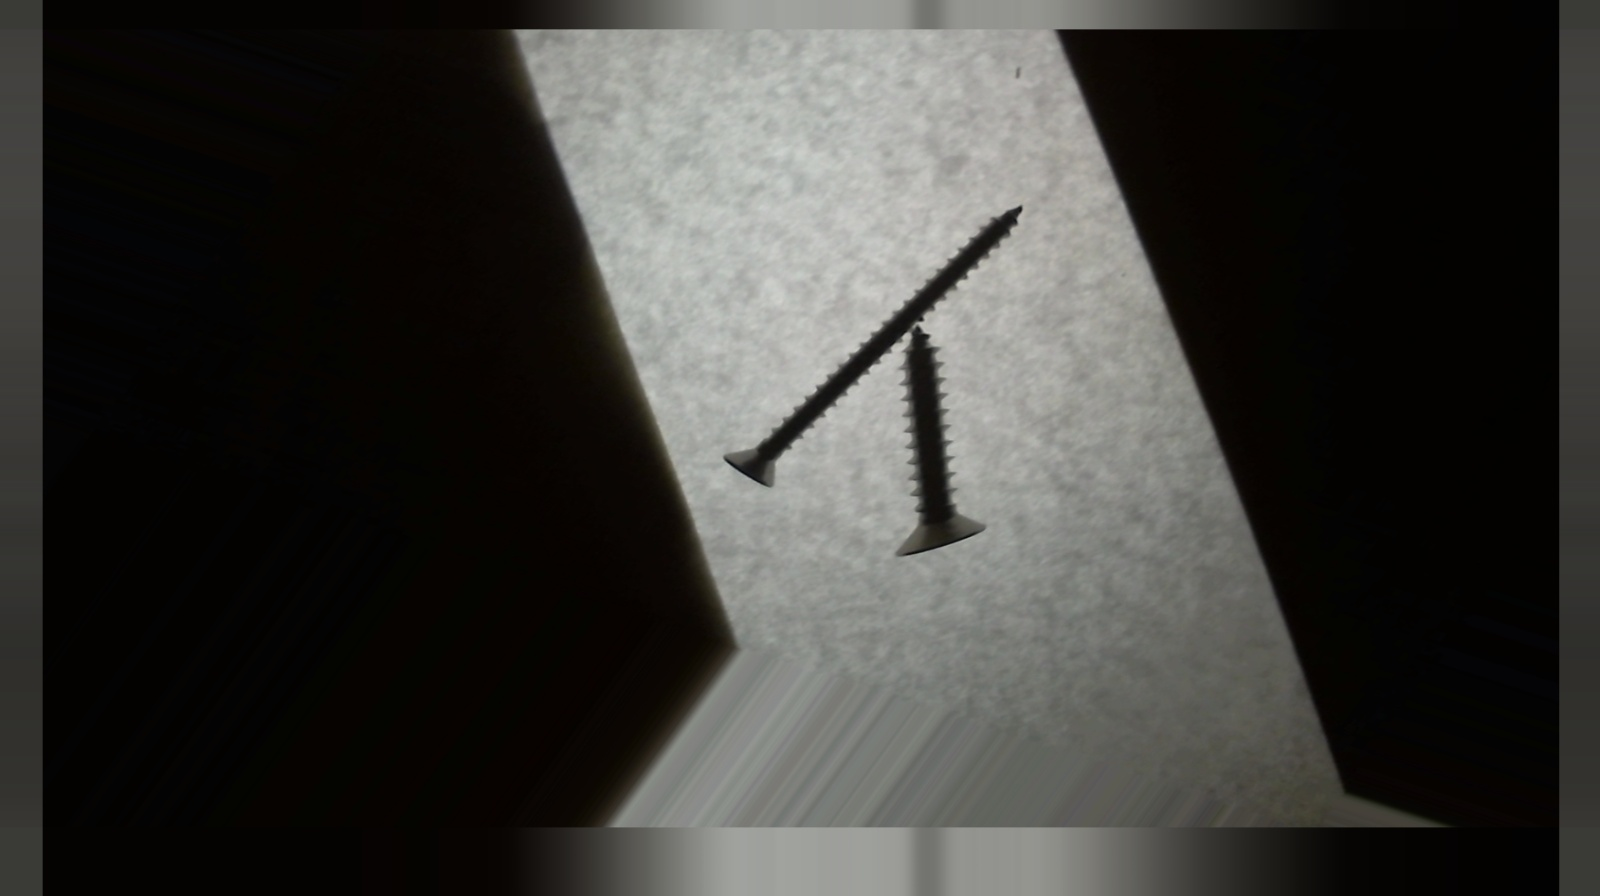S001: (763, 313, 1104, 580)
S002: (709, 168, 1044, 507)
